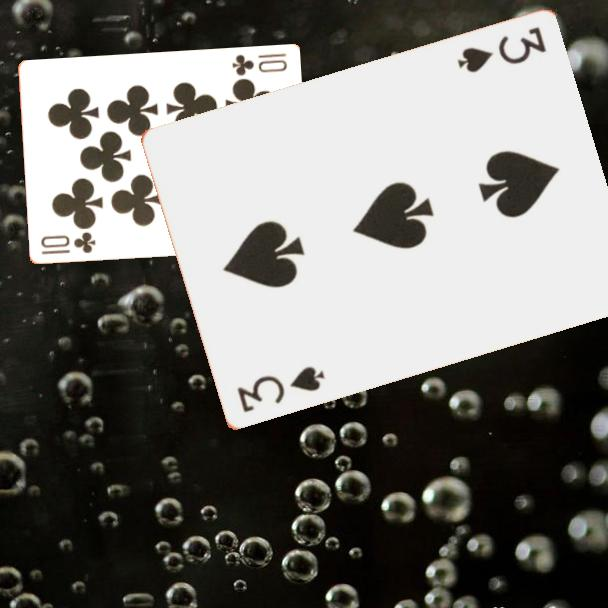c10: (37, 229, 98, 258), (228, 50, 289, 79)
s03: (233, 363, 328, 416), (453, 24, 549, 76)
